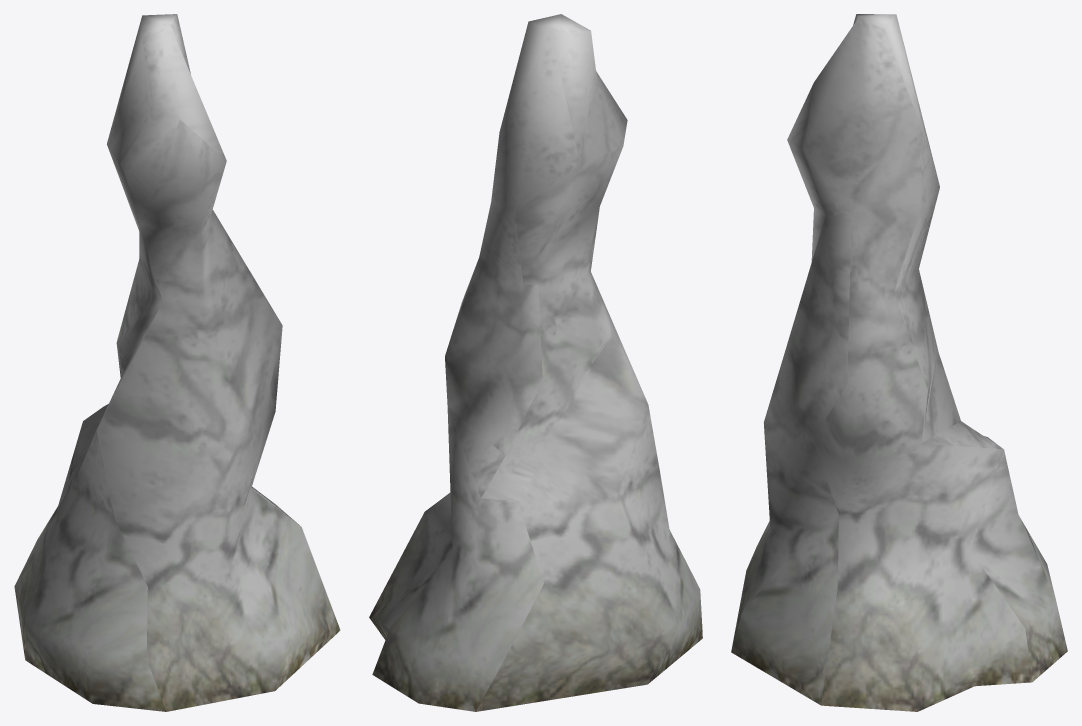
File: general_obj_bigstone02_lod_01.fbx
The picture shows the model from 3 angles, left to right: view 1: azimuth 30°, elevation 25°; view 2: azimuth 150°, elevation 25°; view 3: azimuth 270°, elevation 25°; orthographic projection.
Parts seen in each view (by area): view 1: Sphere01; view 2: Sphere01; view 3: Sphere01.
Boxes of the visible parts, x1,y1,x2,y2 form: Sphere01: (14, 14, 340, 711); Sphere01: (369, 14, 702, 711); Sphere01: (731, 14, 1067, 711).
Size of the model in its own units: 21.02 by 42.85 by 21.23.
